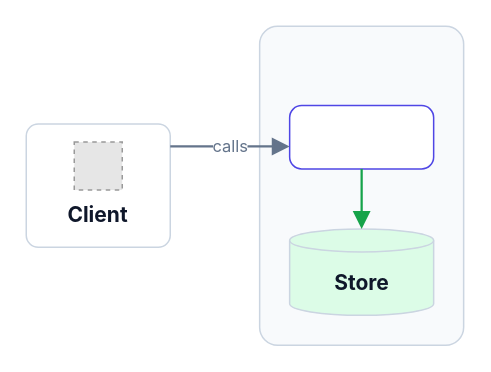
This 491x372 diagram has some shape labels left out. Grey dashed boxes stand in for pictures. Here are the shapes that lost their labels. From the top down, the box of each, then its label:
(288, 104, 434, 169): API
(258, 25, 464, 345): Backend
